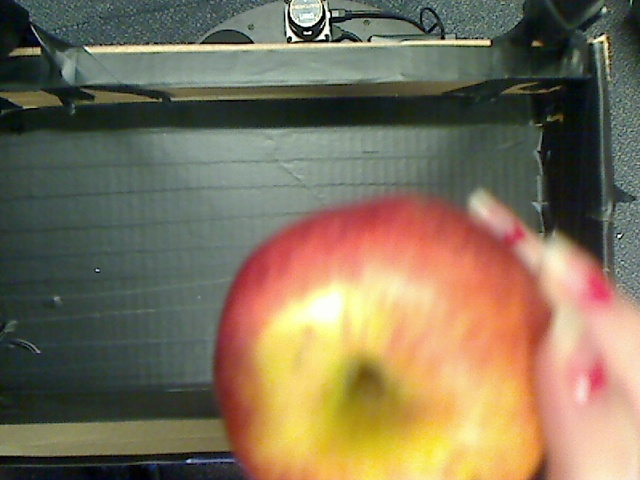apple: (190, 174, 565, 480)
